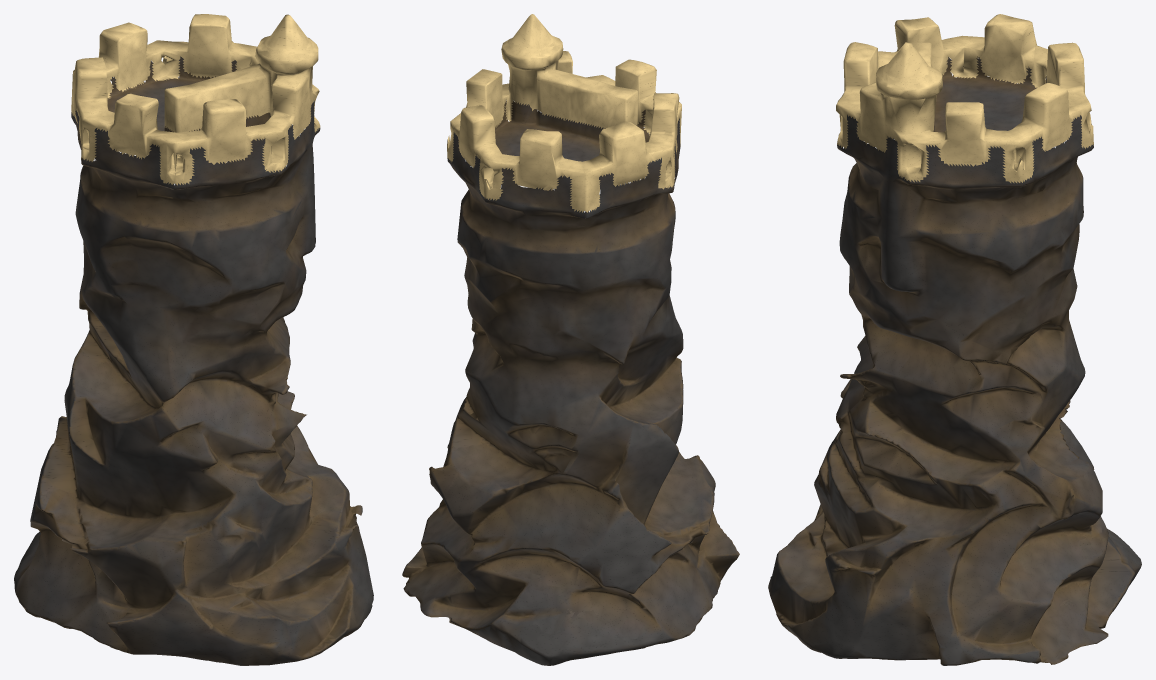
File: rook-black-hd.glb
The picture shows the model from 3 angles, left to right: view 1: azimuth 30°, elevation 25°; view 2: azimuth 150°, elevation 25°; view 3: azimuth 270°, elevation 25°; orthographic projection. The views are drawn at different scales.
Parts seen in each view (by area): view 1: Argent Reliquary – Black Rook; view 2: Argent Reliquary – Black Rook; view 3: Argent Reliquary – Black Rook.
Part boxes in pixels (left/top/right/bottom): Argent Reliquary – Black Rook: left=14, top=14, right=373, bottom=665; Argent Reliquary – Black Rook: left=402, top=14, right=739, bottom=665; Argent Reliquary – Black Rook: left=768, top=14, right=1141, bottom=665.
Size of the model in its own units: 0.6234 by 1.17 by 0.6583.
2 materials, 2 textured.
